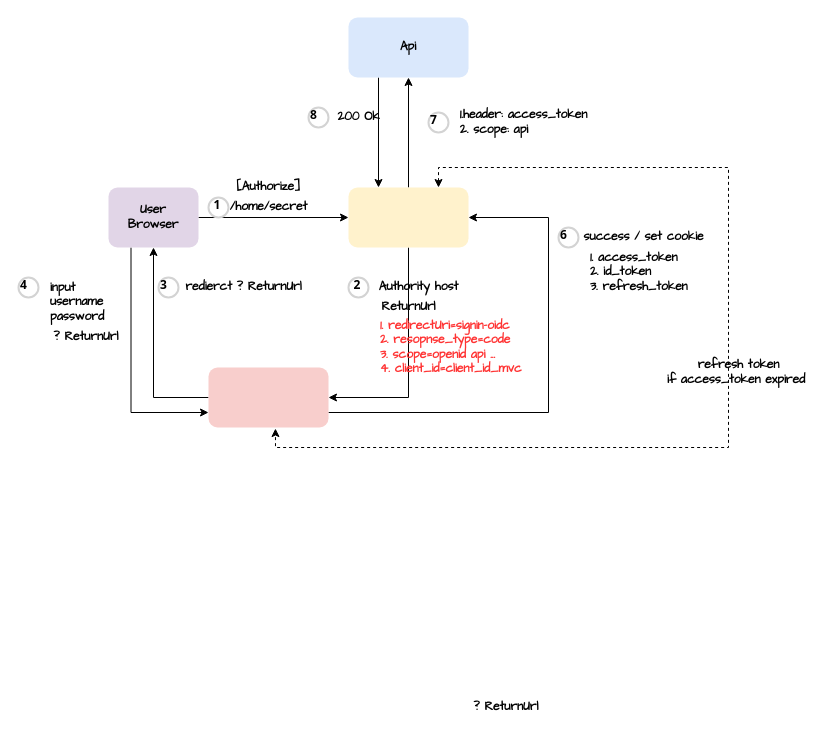
Some shapes in this 835 by 734 pixel diagram are drawn without their labels. Here are the shapes that lost their labels. From the top down, the box of each, then its label:
(348, 187, 468, 247): Mvc Client
(208, 367, 328, 427): Identity Server
